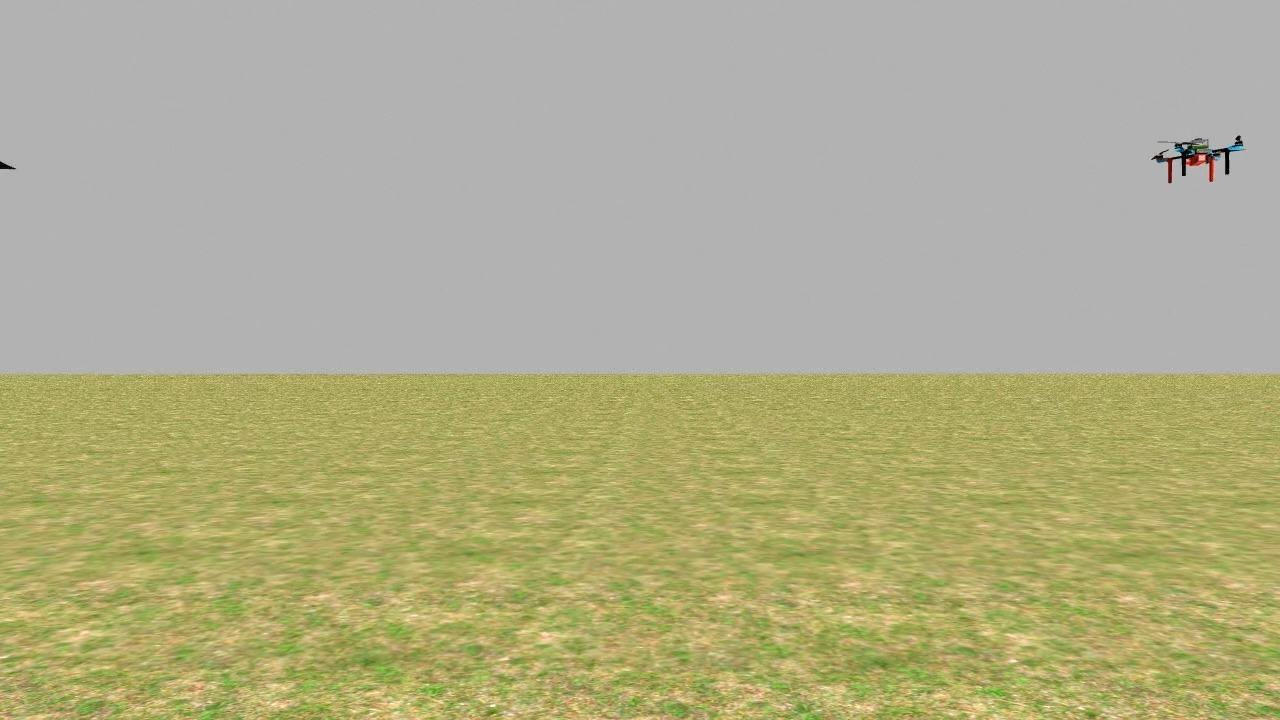UAV: (1146, 115, 1246, 194)
